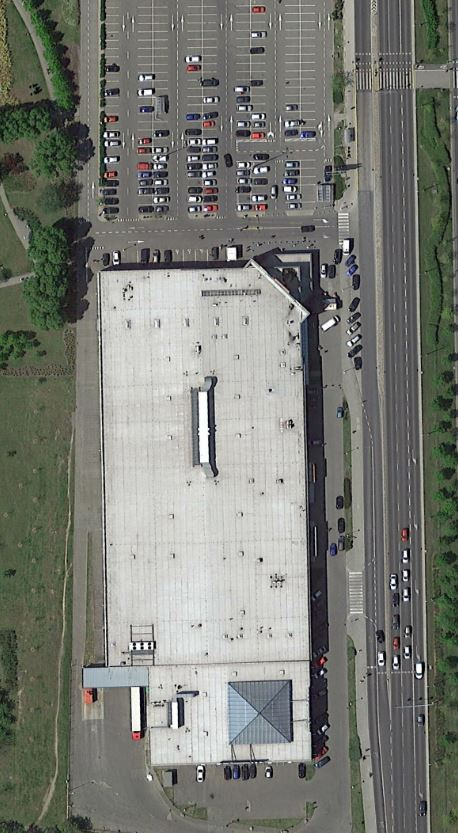shopping_center: (67, 230, 343, 777)
